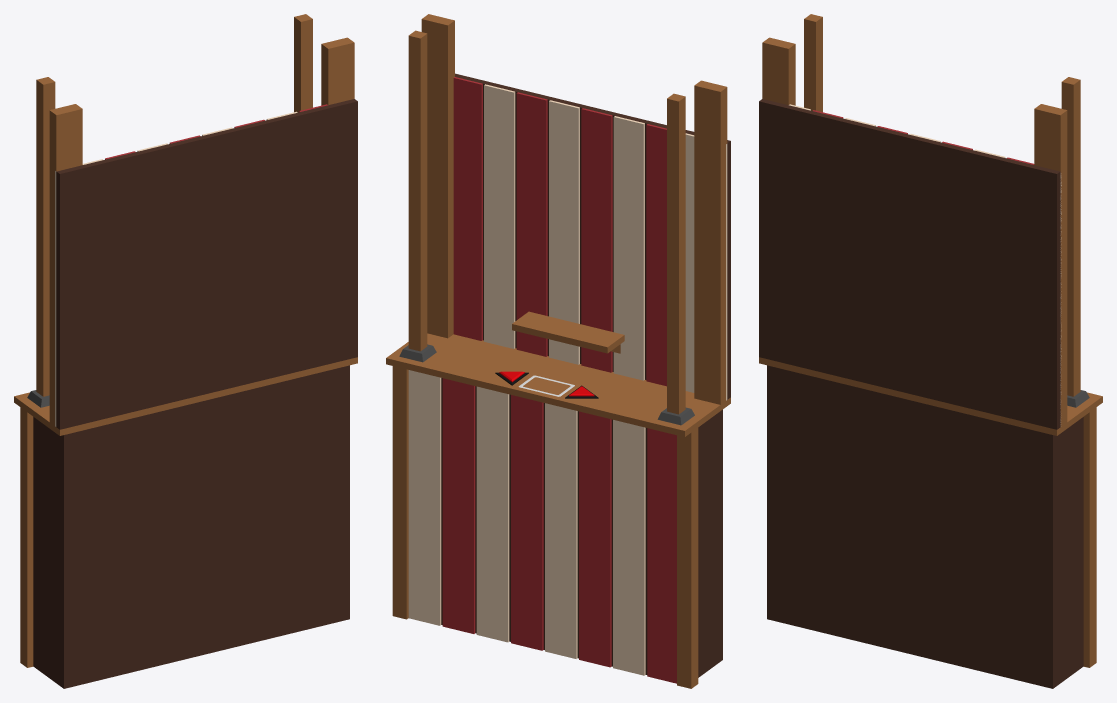
The model's file is Shop.fbx.
The picture shows the model from 3 angles, left to right: view 1: azimuth 30°, elevation 25°; view 2: azimuth 150°, elevation 25°; view 3: azimuth 330°, elevation 25°; orthographic projection.
Visible parts, largest first — view 1: Front, Back Wall, Pillar, Edge, Edge.001, Hang, Planks; view 2: Planks.001, Planks, Edge, Pillar, Hang, Front, Edge.001, Back Wall, Shelf; view 3: Front, Back Wall, Pillar, Edge, Edge.001, Hang, Planks.
Part boxes in pixels (x1,y1,x2,y2): Front: (33,365,349,688); Back Wall: (56,99,357,429); Pillar: (27,14,312,407); Edge: (49,37,354,425); Edge.001: (20,407,33,667); Hang: (14,357,357,435); Planks: (55,104,327,426); Planks.001: (408,370,676,683); Planks: (453,77,727,400); Edge: (421,14,727,404); Pillar: (399,30,694,425); Hang: (386,333,730,436); Front: (441,378,722,677); Edge.001: (392,366,698,688); Back Wall: (455,73,730,399); Shelf: (512,311,624,353); Front: (767,365,1083,688); Back Wall: (759,99,1060,429); Pillar: (804,14,1089,407); Edge: (762,37,1067,426); Edge.001: (1083,407,1096,667); Hang: (759,357,1102,435); Planks: (789,104,1061,424).
Bounding box in the file's own units: 25 × 46.57 × 6.67.
